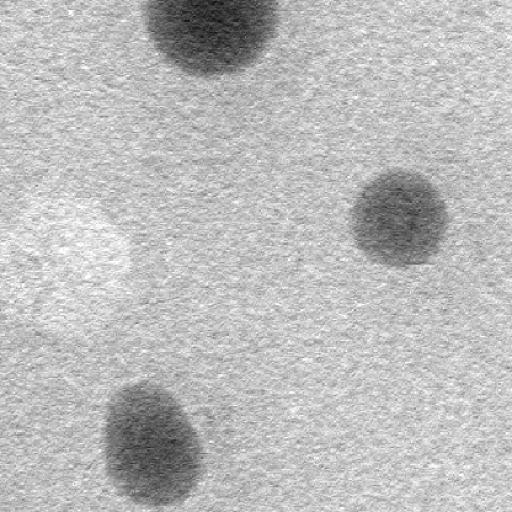Nanoparticles: (101, 380, 205, 505), (142, 0, 279, 73), (348, 168, 449, 266)
